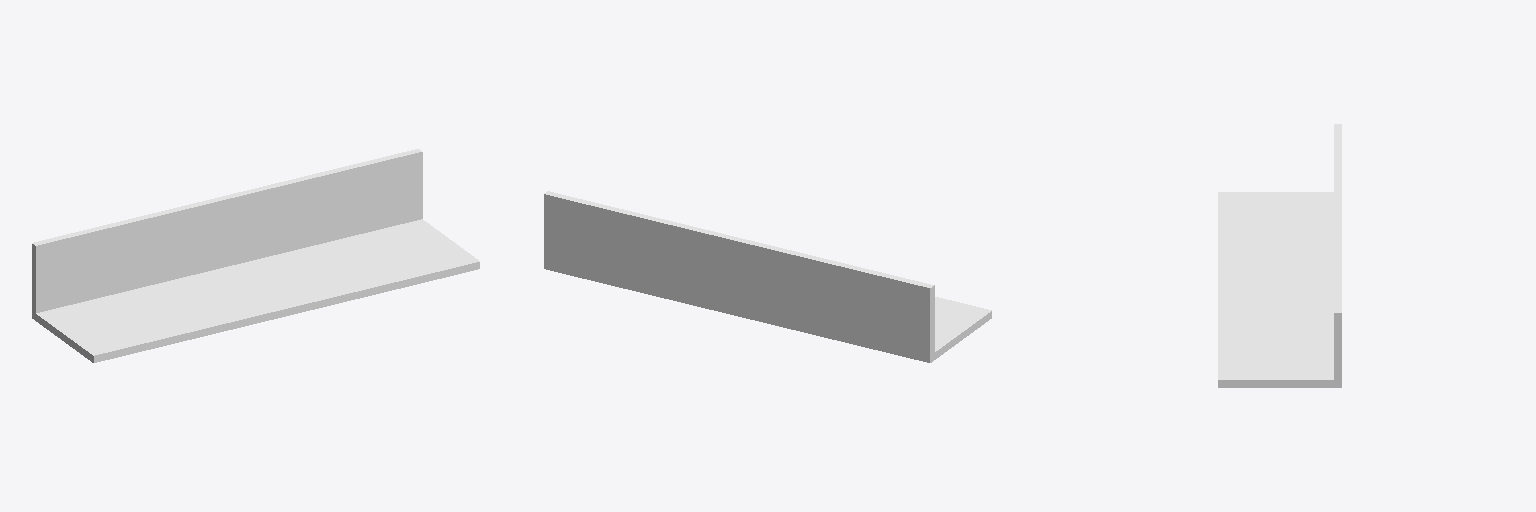
Rendered from Pasillo1.obj.
The picture shows the model from 3 angles: view 1: azimuth 30°, elevation 25°; view 2: azimuth 150°, elevation 25°; view 3: azimuth 270°, elevation 25°; orthographic projection.
Visible parts, largest first — view 1: object 1; view 2: object 1; view 3: object 1.
Part boxes in pixels (bbox=[...]): object 1: bbox=[32, 149, 479, 362]; object 1: bbox=[544, 191, 991, 362]; object 1: bbox=[1218, 124, 1341, 387].
Size of the model in its own units: 5.4 by 1 by 1.5.